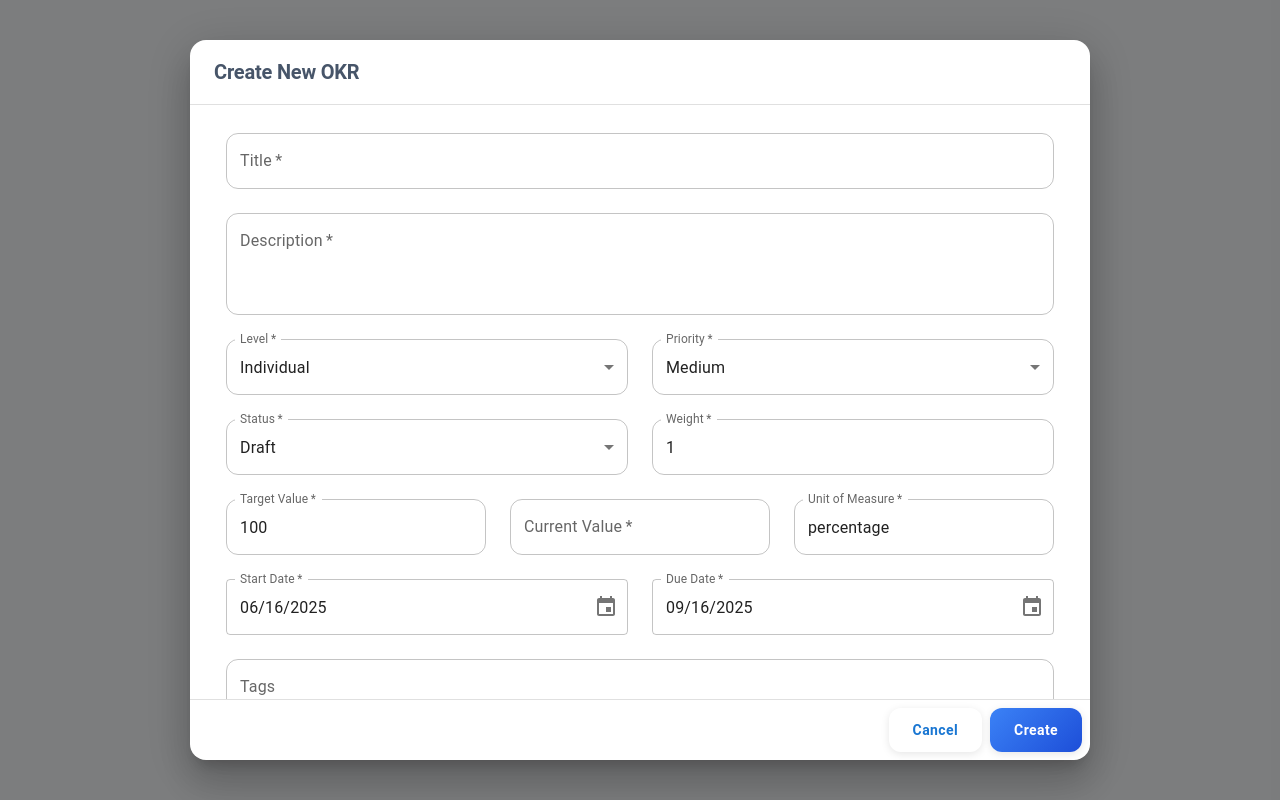
Test: GoalEditor › validates required fields on submission
The image size is (1280, 800).
# Try to submit without filling required fields
Click the button "Create".
click(1036, 730)  # box top-left (990, 708), bottom-right (1082, 752)
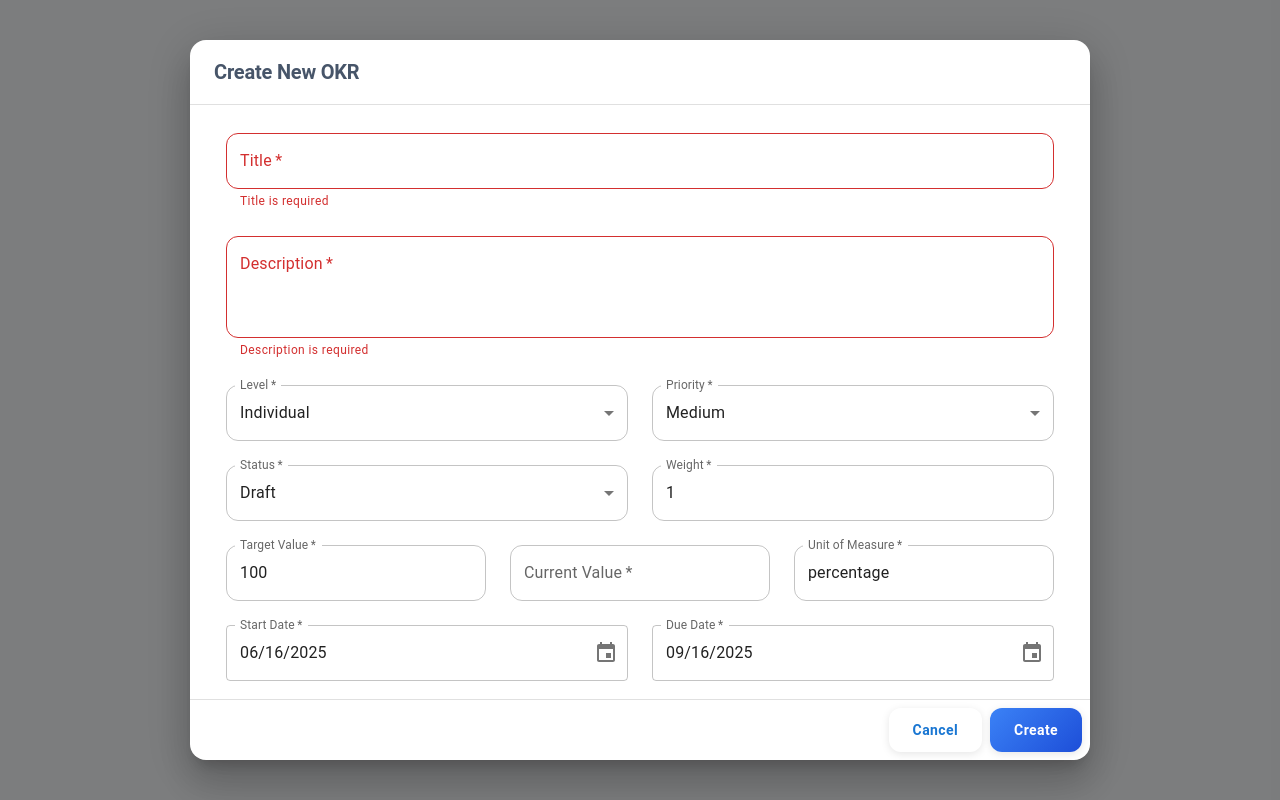
Expected: the text "Title is required" is shown, top-left (240, 194), bottom-right (329, 208)
